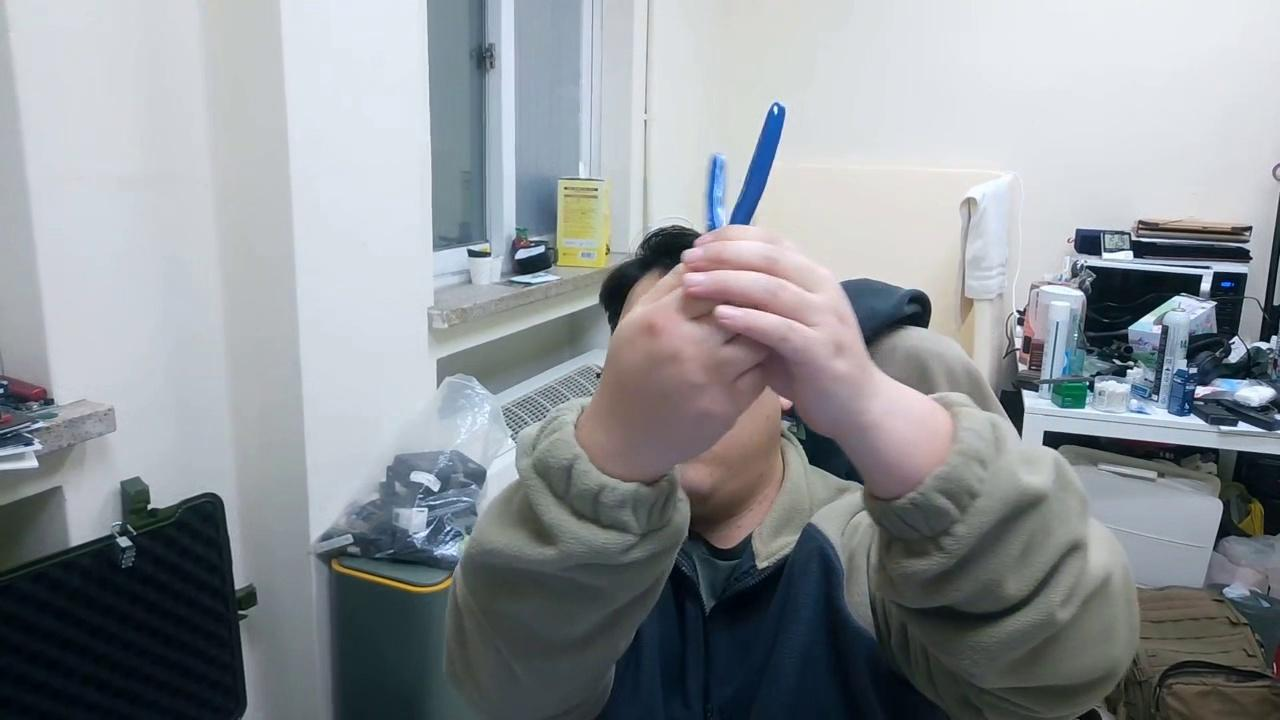blue_pliers: (705, 100, 789, 234)
